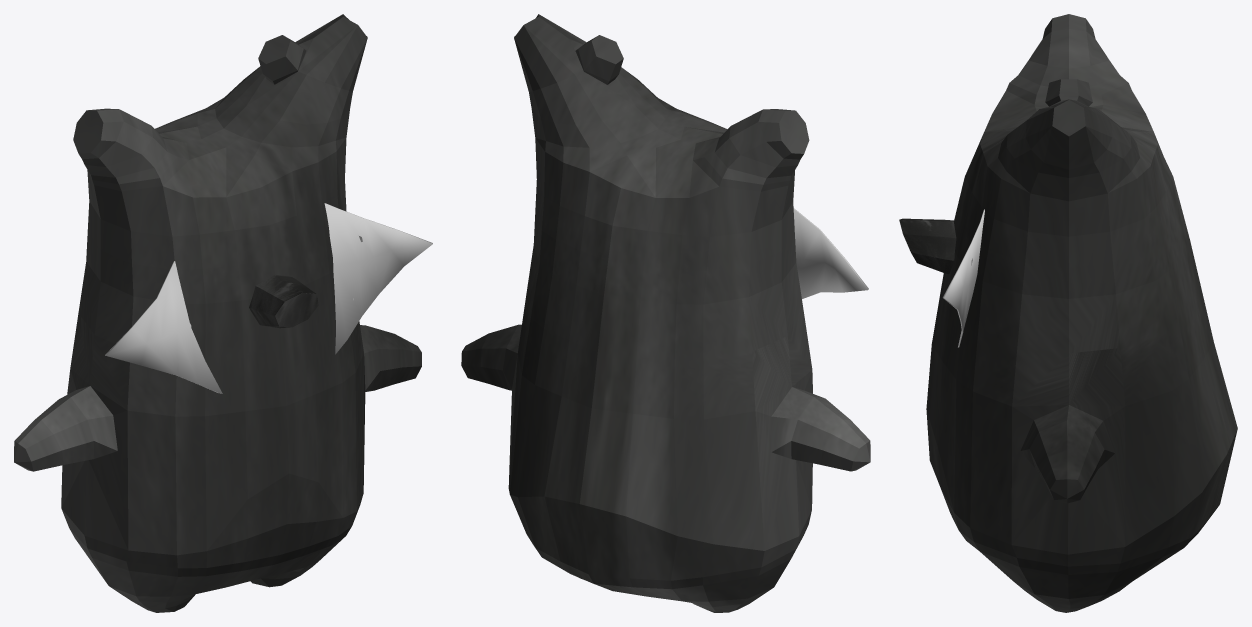
Rendered from frame_0035.obj.
3 renders of one model, left to right at view 1: azimuth 30°, elevation 25°; view 2: azimuth 150°, elevation 25°; view 3: azimuth 270°, elevation 25°, orthographic.
Visible parts, largest first — view 1: korok, leaf, nose; view 2: korok, leaf; view 3: korok, nose, leaf.
Boxes of the visible parts, x1,y1,x2,y2 form: korok: (14, 14, 421, 612); leaf: (105, 203, 432, 393); nose: (249, 274, 318, 328); korok: (461, 14, 870, 612); leaf: (793, 208, 868, 298); korok: (926, 14, 1237, 612); nose: (899, 218, 956, 273); leaf: (942, 209, 984, 347).
Size of the model in its own units: 1.75 by 2.25 by 1.27.
